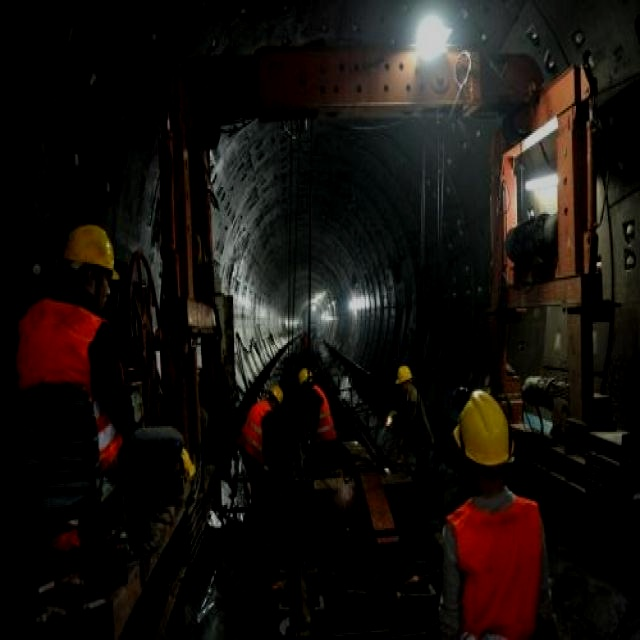Con_Casco: (452, 386, 516, 478), (64, 222, 117, 299)
Con_Chaleco: (16, 301, 112, 494), (446, 495, 540, 640)
